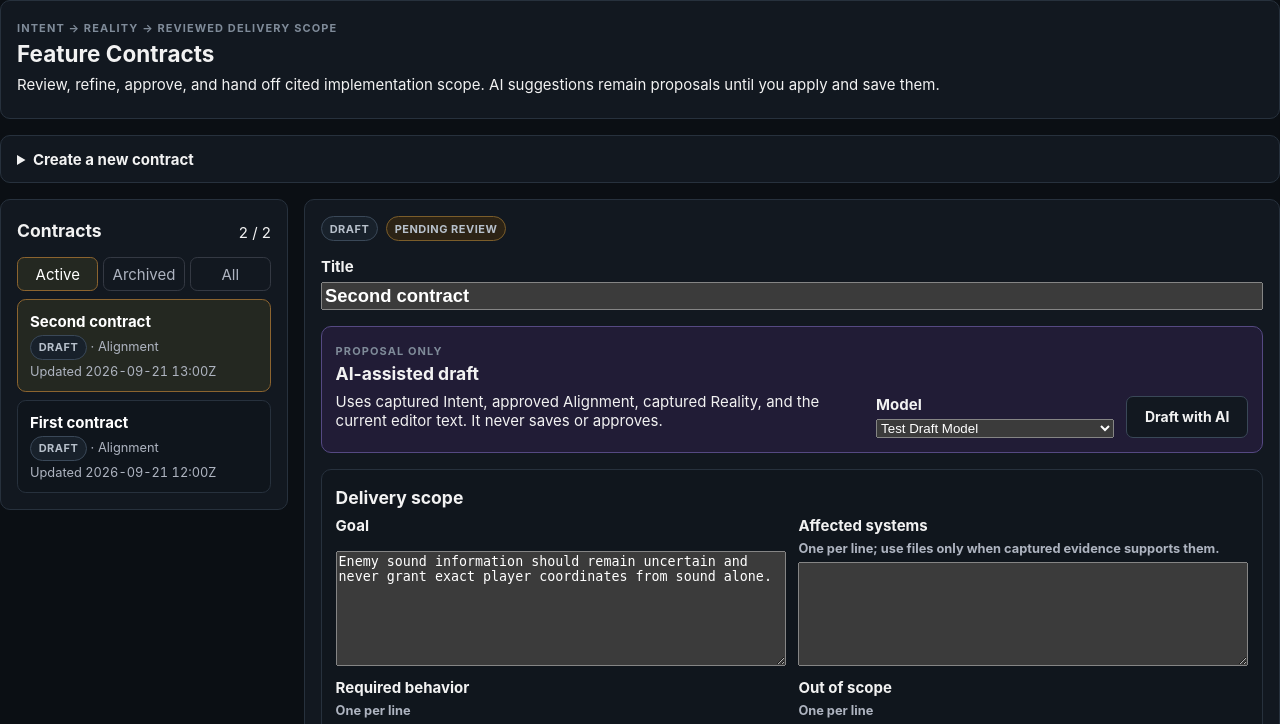
Test: Feature Contracts workbench › switches compact history rows without page navigation
This screenshot has width=1280, height=724.
expect the field labelled "Title" holds "Second contract": met, box [321,282,1263,310]
Click the button "First contract DRAFT · Alignment Updated 2026-09-21 12:00Z".
click(144, 446)  # box [17,400,271,493]
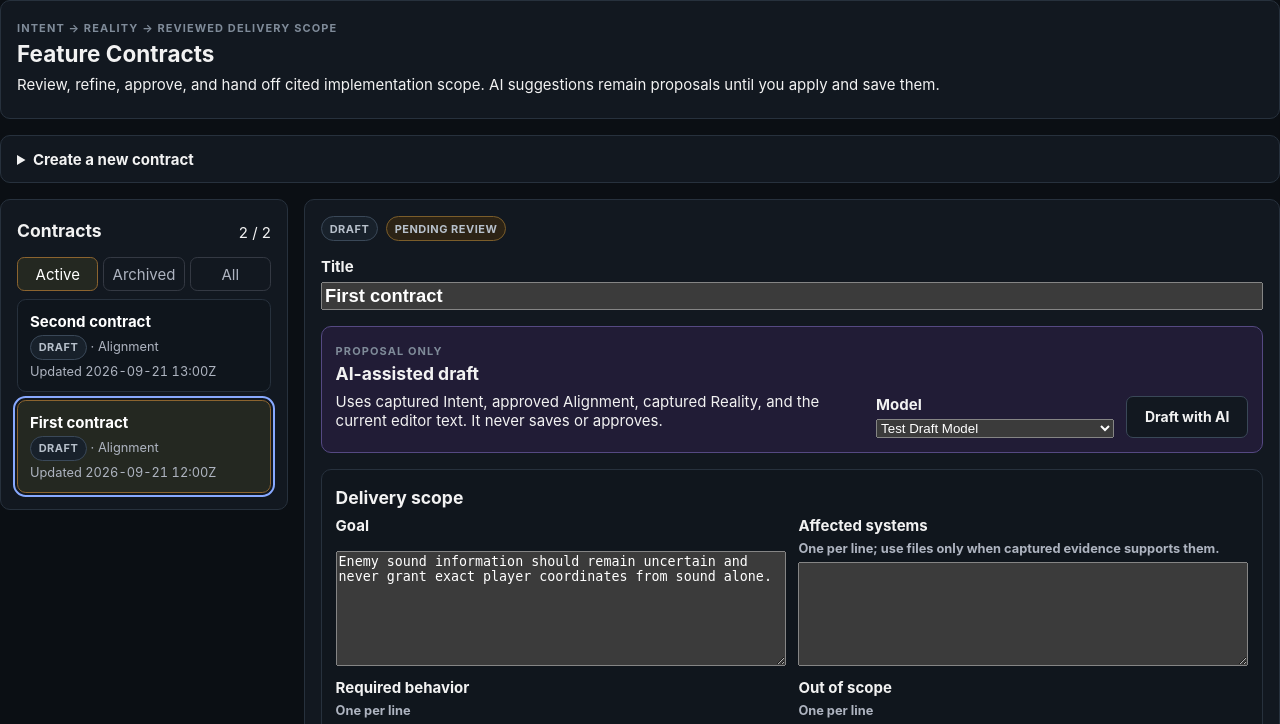
expect the field labelled "Title" holds "First contract": met, box [321,282,1263,310]
